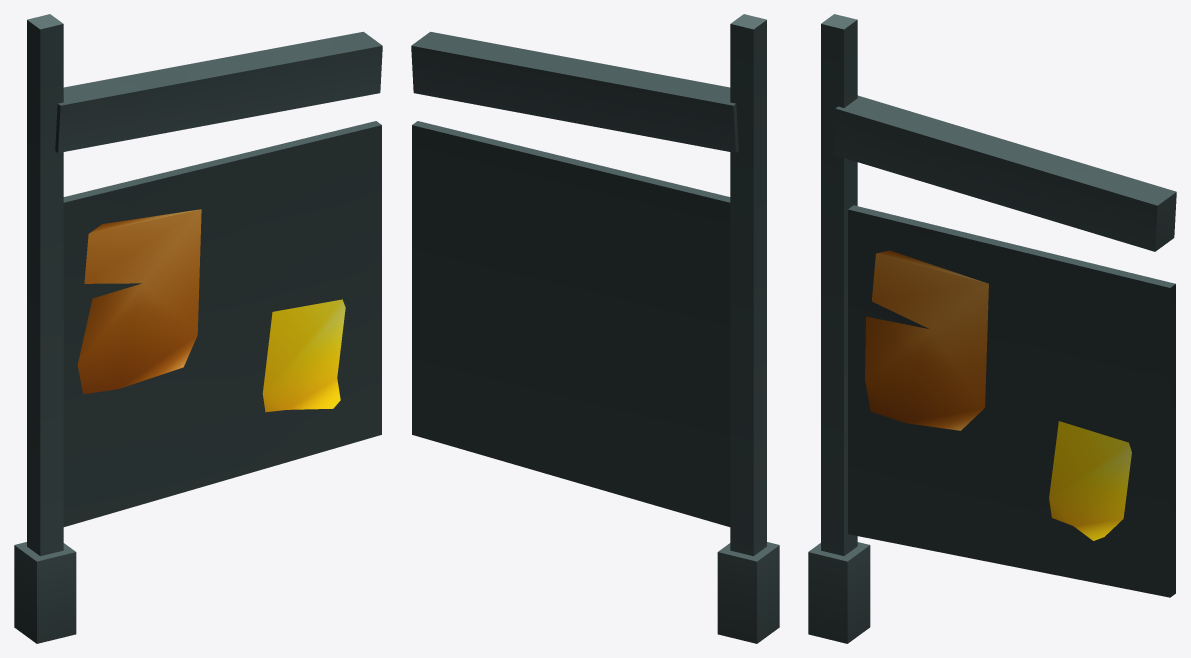
File: Metal_Fence_2C.fbx
The picture shows the model from 3 angles, left to right: view 1: azimuth 30°, elevation 25°; view 2: azimuth 150°, elevation 25°; view 3: azimuth 330°, elevation 25°; orthographic projection.
Parts seen in each view (by area): view 1: Metal_Fence_2C; view 2: Metal_Fence_2C; view 3: Metal_Fence_2C.
Boxes of the visible parts, bbox=[...] form: Metal_Fence_2C: bbox=[14, 14, 382, 643]; Metal_Fence_2C: bbox=[411, 14, 779, 643]; Metal_Fence_2C: bbox=[808, 14, 1176, 643].
Bounding box in the file's own units: 2.13 × 3.5 × 0.295.
